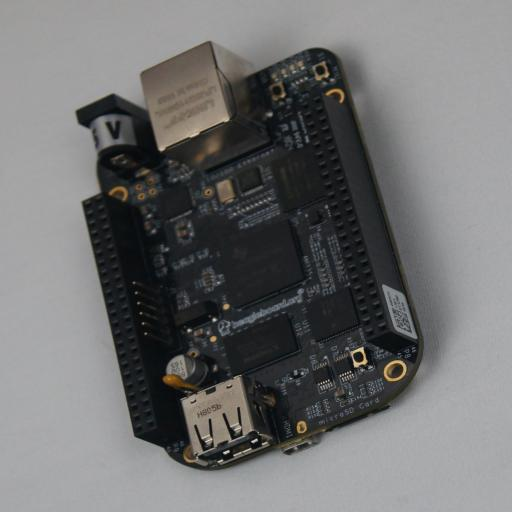Beaglebone Black: (76, 41, 431, 471)
